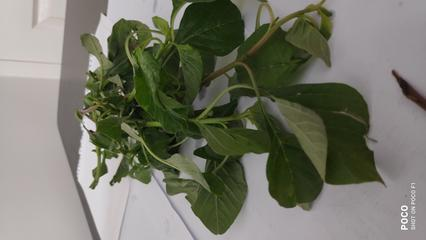spinach: (82, 54, 327, 198)
